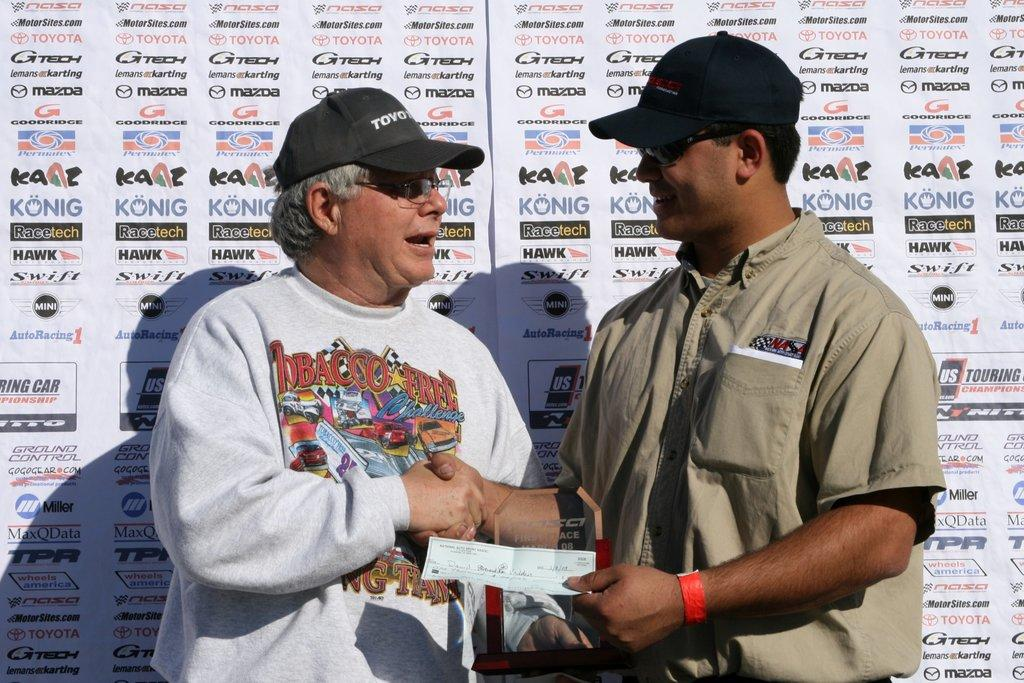Hat: (588, 28, 804, 152), (272, 84, 486, 190)
